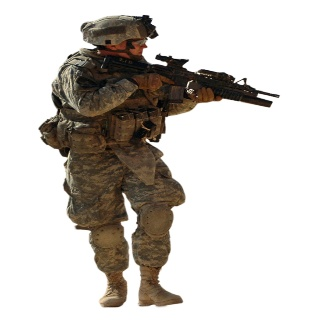rifle: (99, 53, 281, 111)
